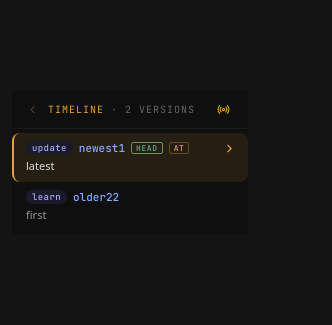
Test: collapses again when a different version is selected
Click the text "latest" at (40, 166), box left=26, top=158, right=54, bottom=173
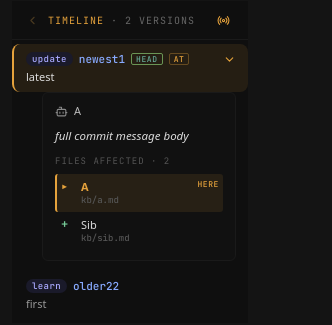
Result: the text "Sib" is shown at left=81, top=217, right=97, bottom=232
